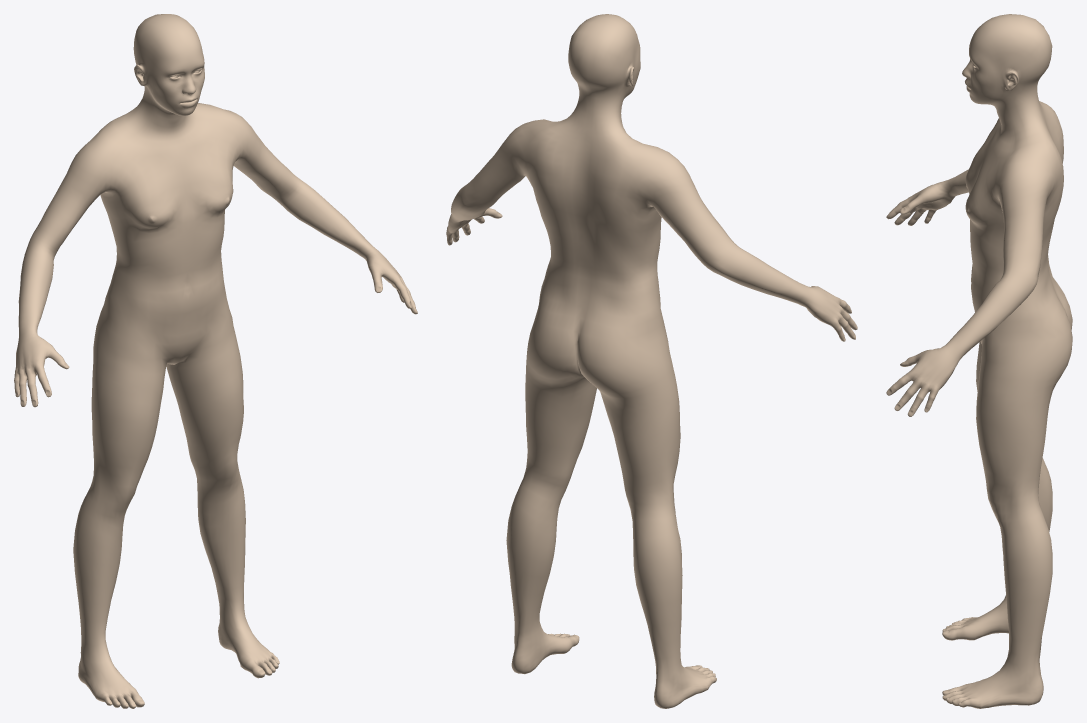
The model's file is demo_base_model.fbx.
The picture shows the model from 3 angles, left to right: view 1: azimuth 30°, elevation 25°; view 2: azimuth 150°, elevation 25°; view 3: azimuth 270°, elevation 25°; orthographic projection.
Visible parts, largest first — view 1: untitled.body; view 2: untitled.body; view 3: untitled.body.
Boxes of the visible parts, left/top/right/bottom form: untitled.body: left=14, top=14, right=417, bottom=708; untitled.body: left=446, top=14, right=857, bottom=708; untitled.body: left=886, top=14, right=1072, bottom=708.
Bounding box in the file's own units: 1.05 × 1.66 × 0.43.
